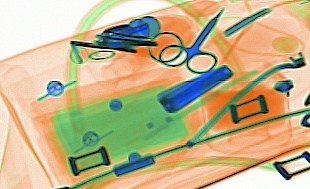scissors: (156, 6, 225, 74)
